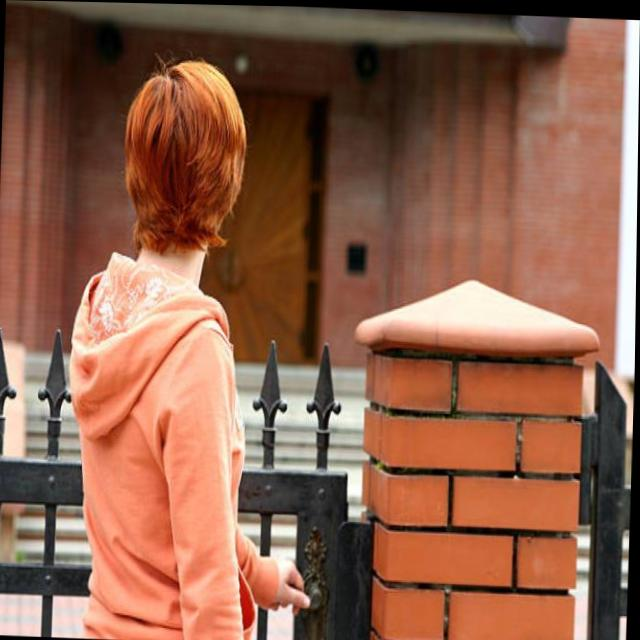no helmet: (120, 61, 244, 269)
